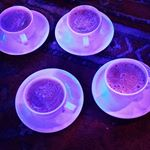cups: (21, 74, 81, 118), (104, 58, 150, 99), (65, 4, 105, 50), (1, 4, 39, 48)
